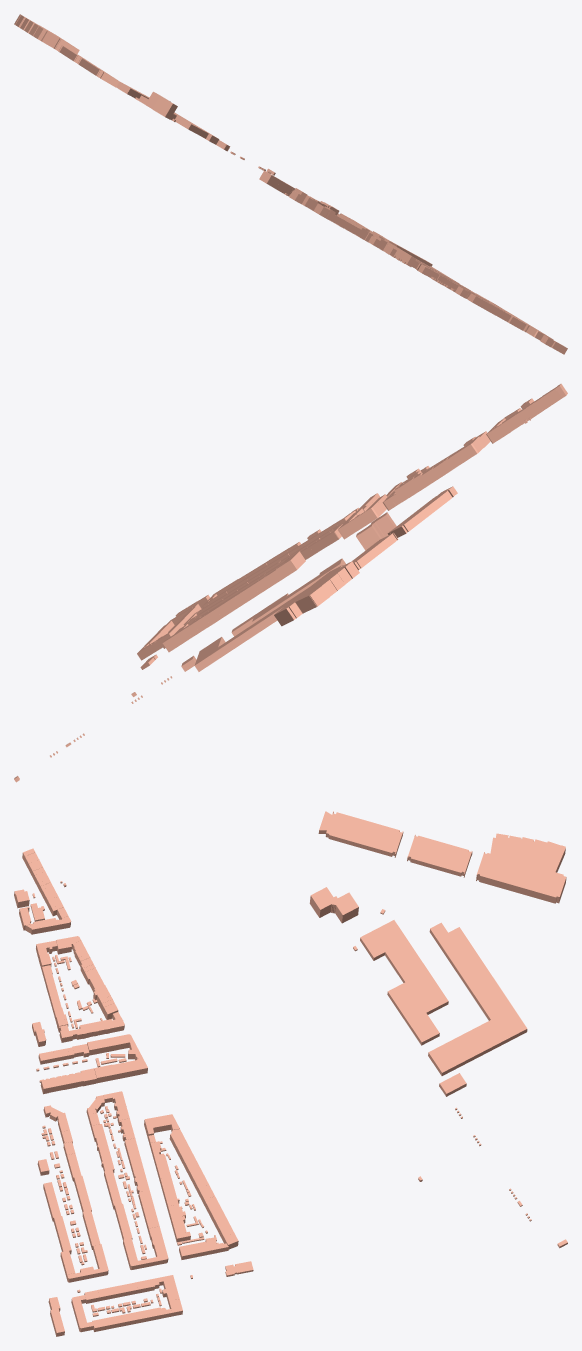
3 renders of one model, top to bottom at view 1: azimuth 30°, elevation 25°; view 2: azimuth 150°, elevation 25°; view 3: azimuth 270°, elevation 25°, orthographic. The views are drawn at different scales.
Size of the model in its own units: 522 by 399 by 608.
